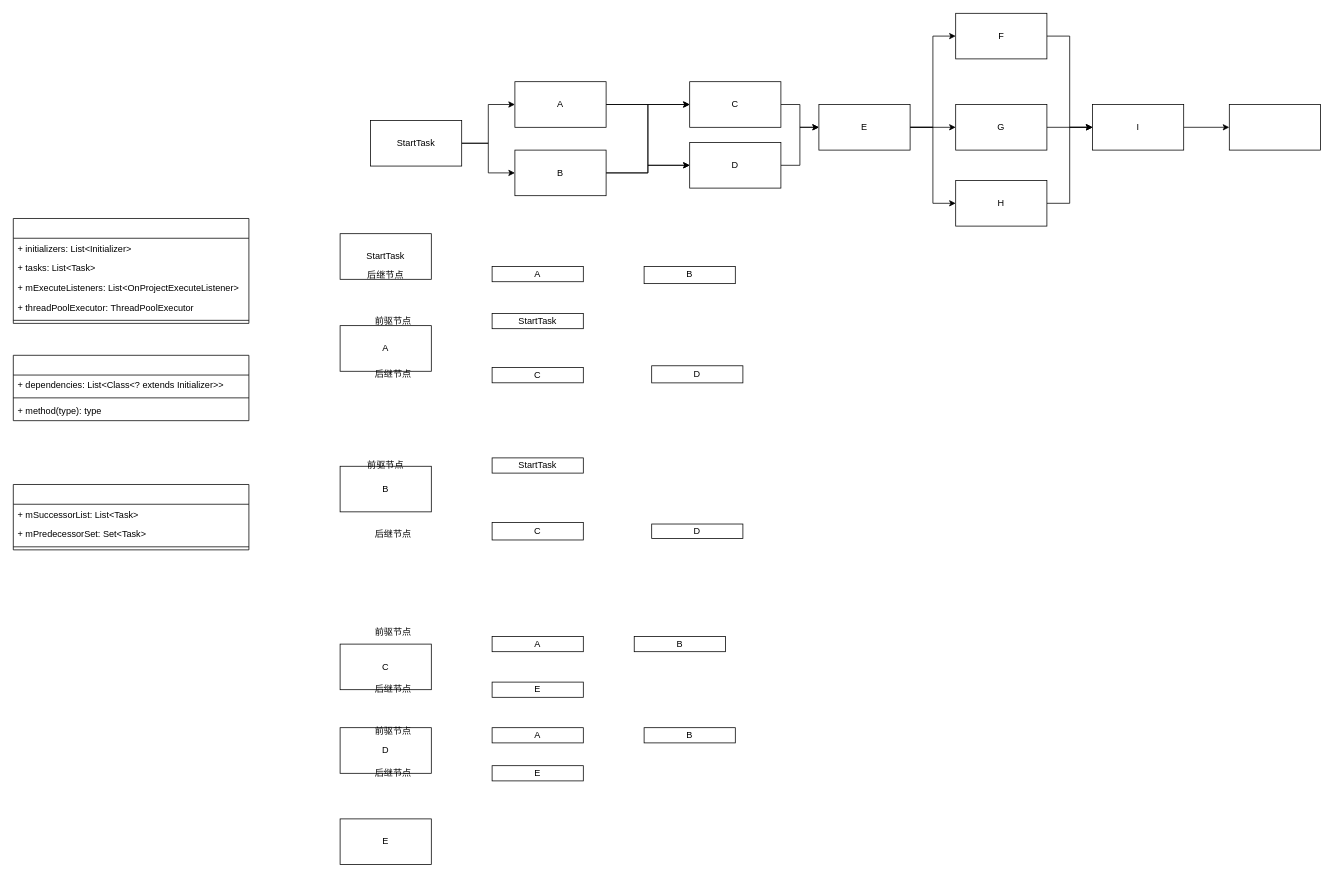
This 1334x878 diagram has some shape labels left out. The shapes that lost their labels are listed below. From the top down, each one's box as (x1, y1, x2, y2) in pixels, then its label:
(1229, 104, 1320, 150): EndTask
(13, 218, 249, 323): DGAppStartup.Builder
(13, 355, 249, 421): Initializer
(13, 484, 249, 550): Task
